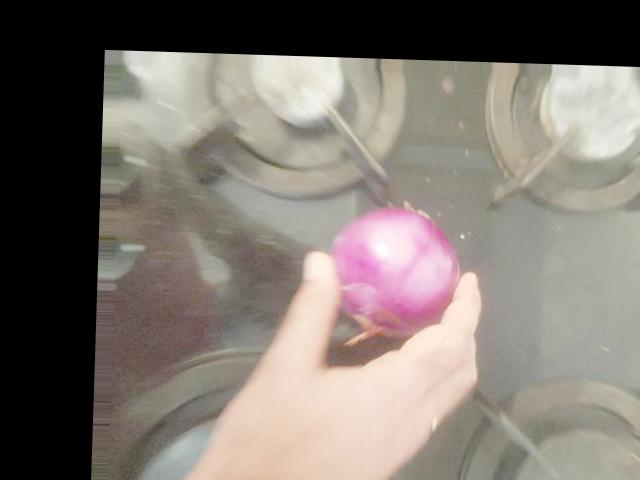onion: (459, 149, 584, 271)
